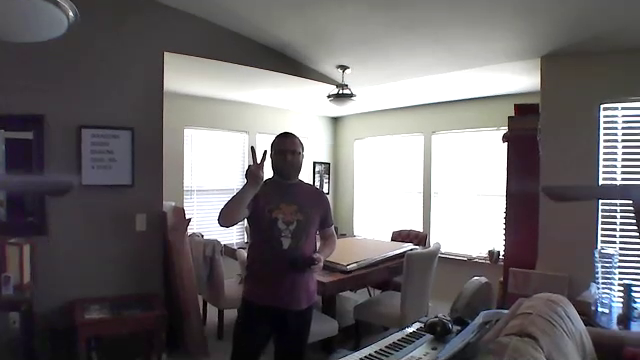peace: (241, 140, 275, 190)
